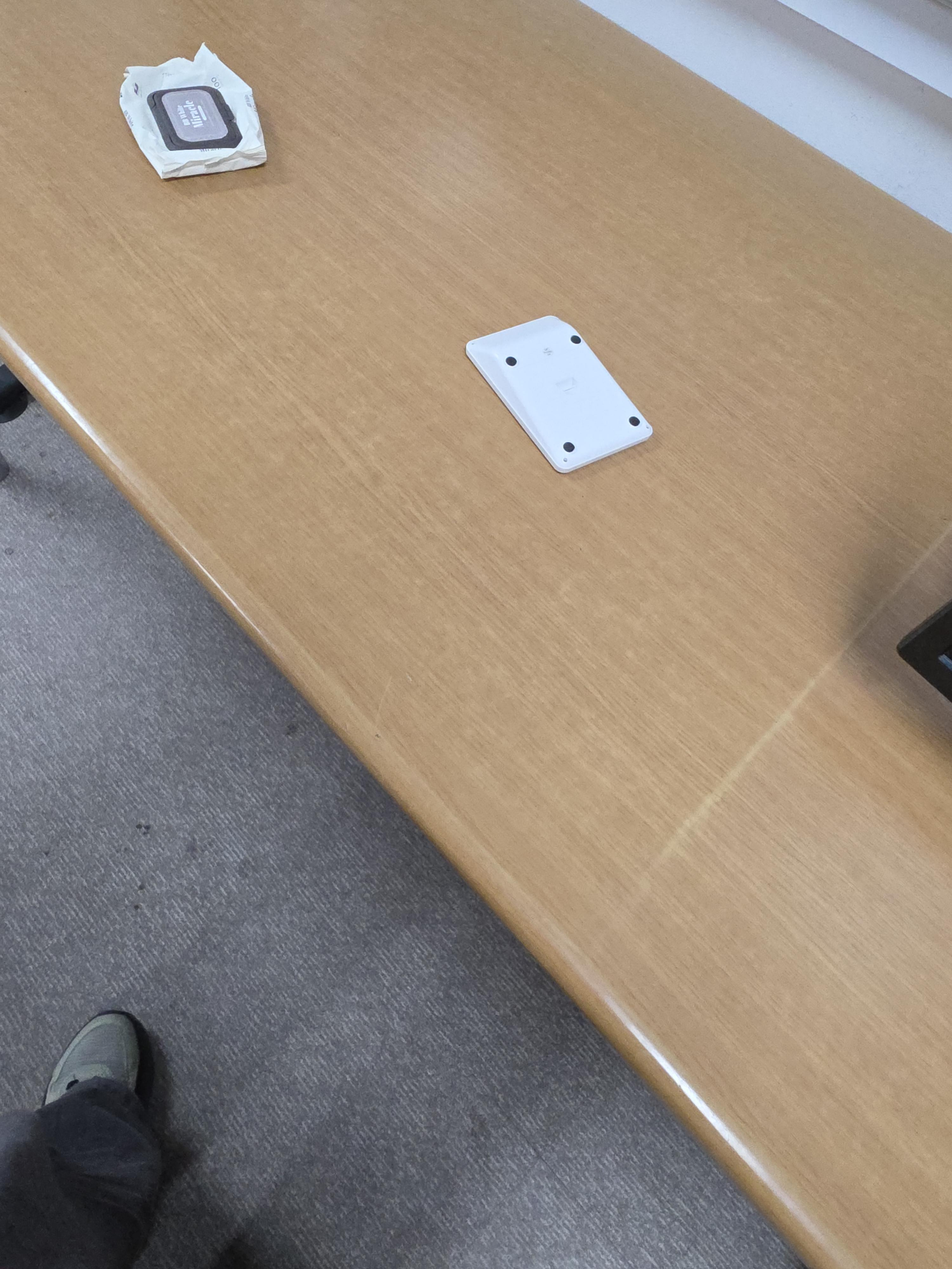calculator: (464, 314, 653, 474)
tissue: (120, 42, 268, 179)
